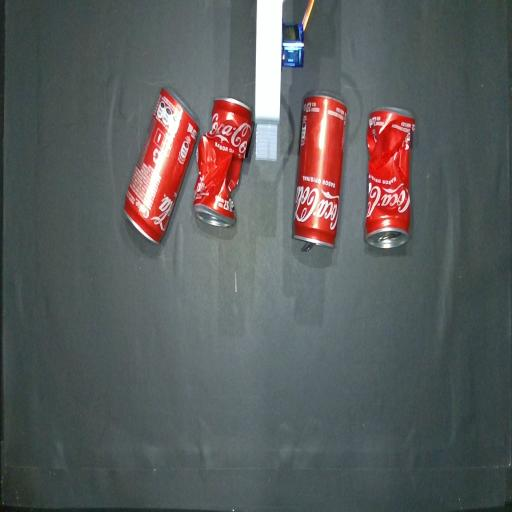lata: (125, 90, 198, 243), (294, 94, 347, 251)
lata_defectuoso: (193, 98, 252, 226), (365, 109, 413, 247)
